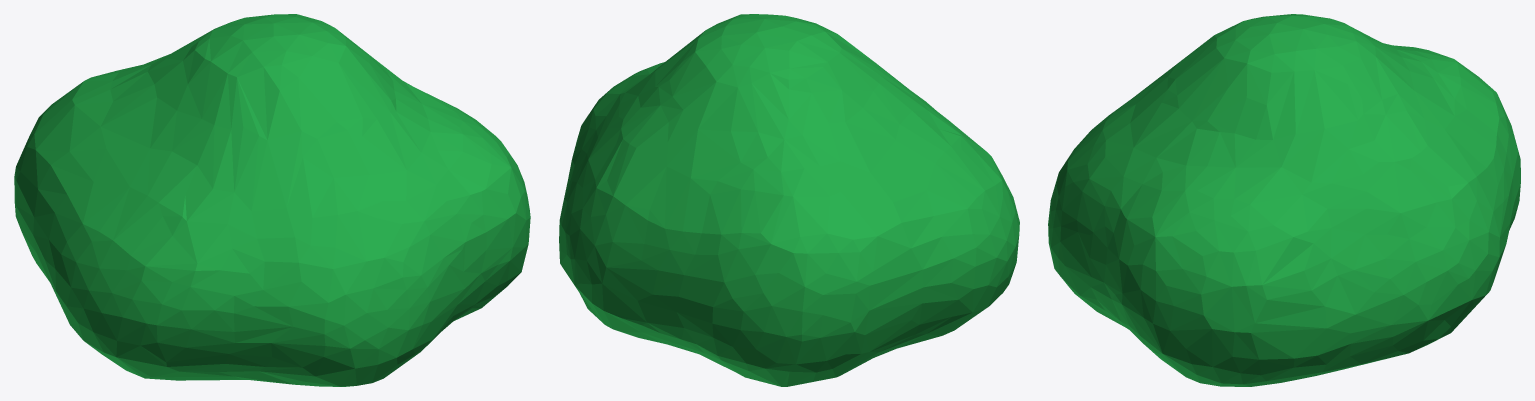
File: bush1.fbx
3 renders of one model, left to right at view 1: azimuth 30°, elevation 25°; view 2: azimuth 150°, elevation 25°; view 3: azimuth 270°, elevation 25°, orthographic. The views are drawn at different scales.
Visible parts, largest first — view 1: Mball.007; view 2: Mball.007; view 3: Mball.007.
Part boxes in pixels (x1=…): Mball.007: x1=14, y1=14, x2=530, y2=386; Mball.007: x1=559, y1=14, x2=1019, y2=386; Mball.007: x1=1048, y1=14, x2=1520, y2=386.
Size of the model in its own units: 50.94 by 32.74 by 48.5.
